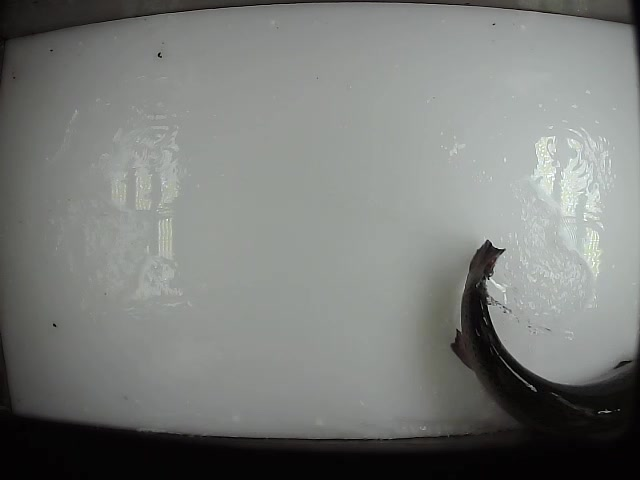fish: (443, 233, 640, 452)
